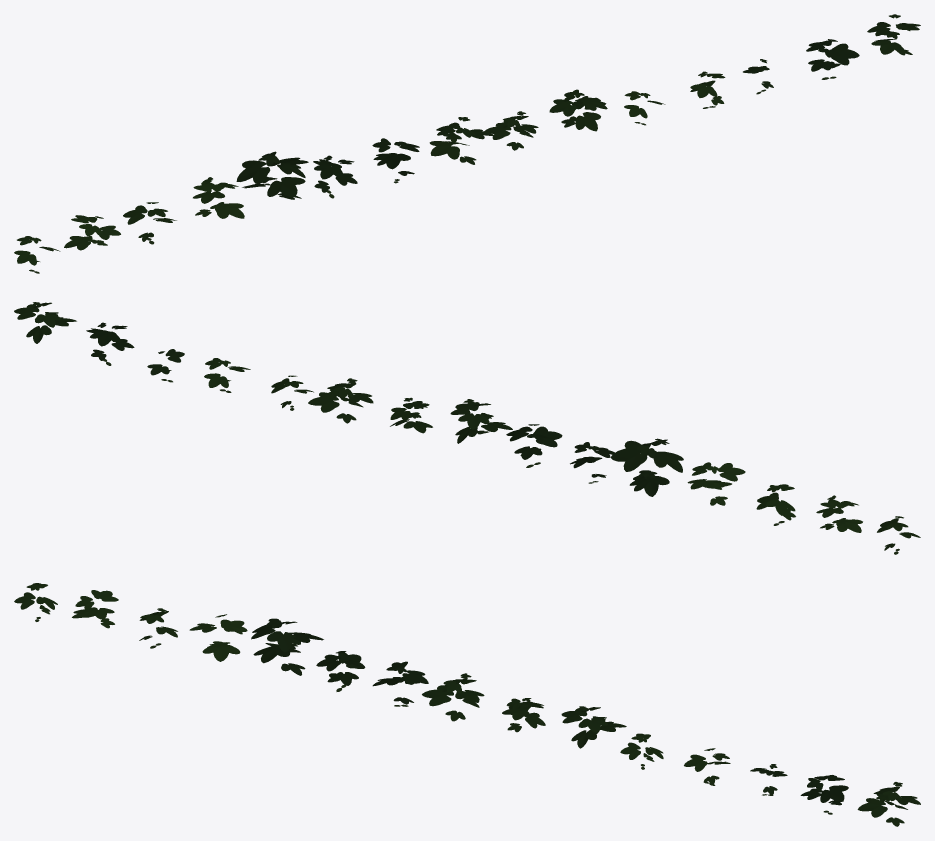
File: ROW_02_SEG1_foliage.dae
3 views of the same model, one above another, from view 1: azimuth 30°, elevation 25°; view 2: azimuth 150°, elevation 25°; view 3: azimuth 330°, elevation 25° (orthographic).
Parts seen in each view (by area): view 1: ROW_02_SEG1_foliage; view 2: ROW_02_SEG1_foliage; view 3: ROW_02_SEG1_foliage.
Boxes of the visible parts, x1,y1,x2,y2 form: ROW_02_SEG1_foliage: [14, 14, 920, 273]; ROW_02_SEG1_foliage: [14, 302, 920, 554]; ROW_02_SEG1_foliage: [14, 583, 920, 826].
Bounding box in the file's own units: 4.51 × 0.312 × 0.2786.
